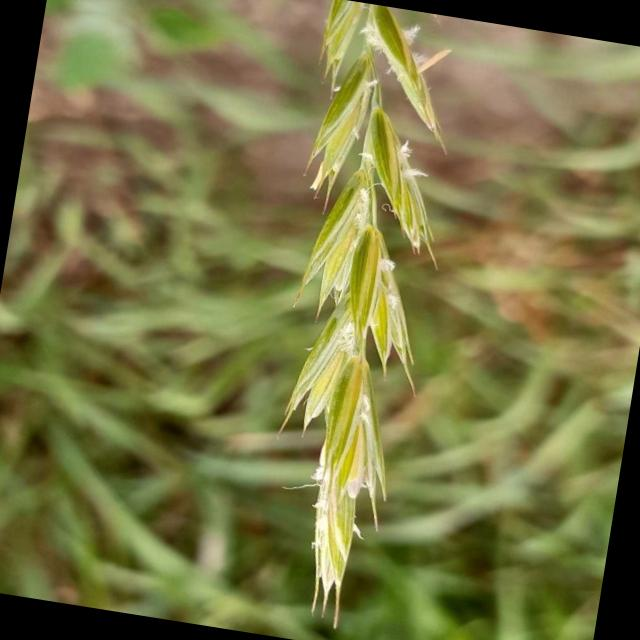Lolium: (227, 0, 480, 637)
